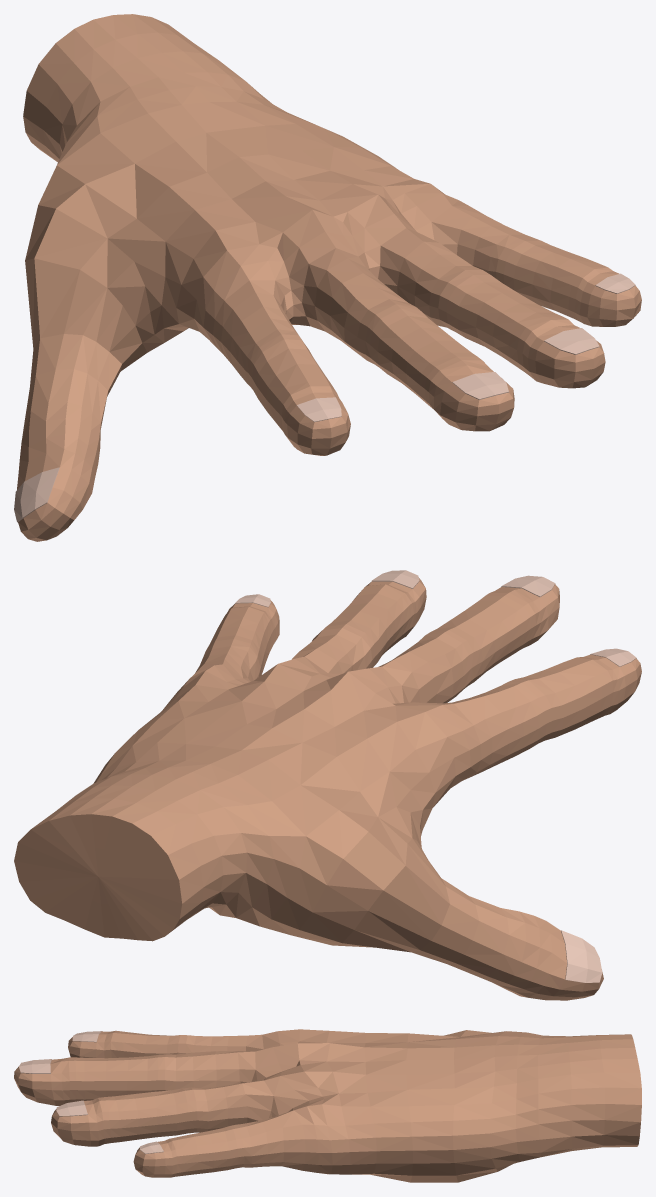
Rendered from hand.gltf.
3 views of the same model, one above another, from view 1: azimuth 30°, elevation 25°; view 2: azimuth 150°, elevation 25°; view 3: azimuth 270°, elevation 25° (orthographic). The views are drawn at different scales.
Parts seen in each view (by area): view 1: node-0; view 2: node-0; view 3: node-0.
Boxes of the visible parts, <box> form: node-0: <box>14,14,641,541</box>; node-0: <box>14,570,641,1000</box>; node-0: <box>14,1029,641,1182</box>.
Bounding box in the file's own units: 1.71 × 0.9437 × 2.59.
